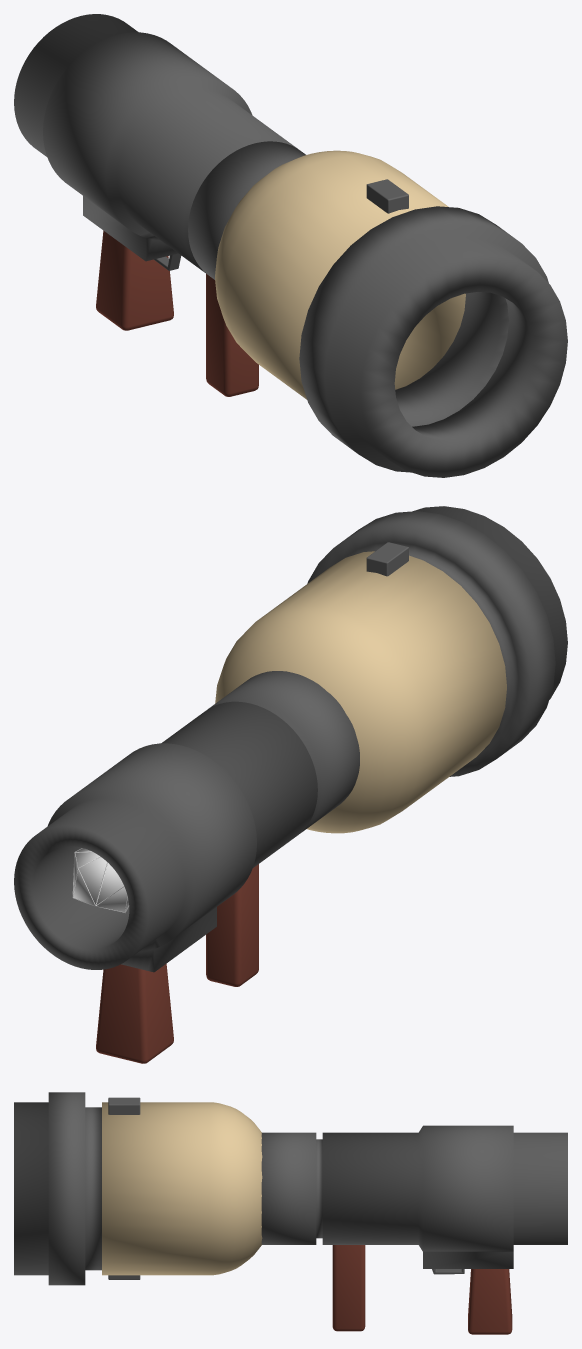
Rendered from just_gun_unrigged.fbx.
3 renders of one model, top to bottom at view 1: azimuth 30°, elevation 25°; view 2: azimuth 150°, elevation 25°; view 3: azimuth 270°, elevation 25°, orthographic. The views are drawn at different scales.
Visible parts, largest first — view 1: Cylinder.001; view 2: Cylinder.001; view 3: Cylinder.001.
Part boxes in pixels (x1,y1,x2,y2): Cylinder.001: (14, 14, 567, 477); Cylinder.001: (14, 506, 567, 1063); Cylinder.001: (14, 1092, 567, 1334).
Size of the model in its own units: 108 by 139 by 309.
